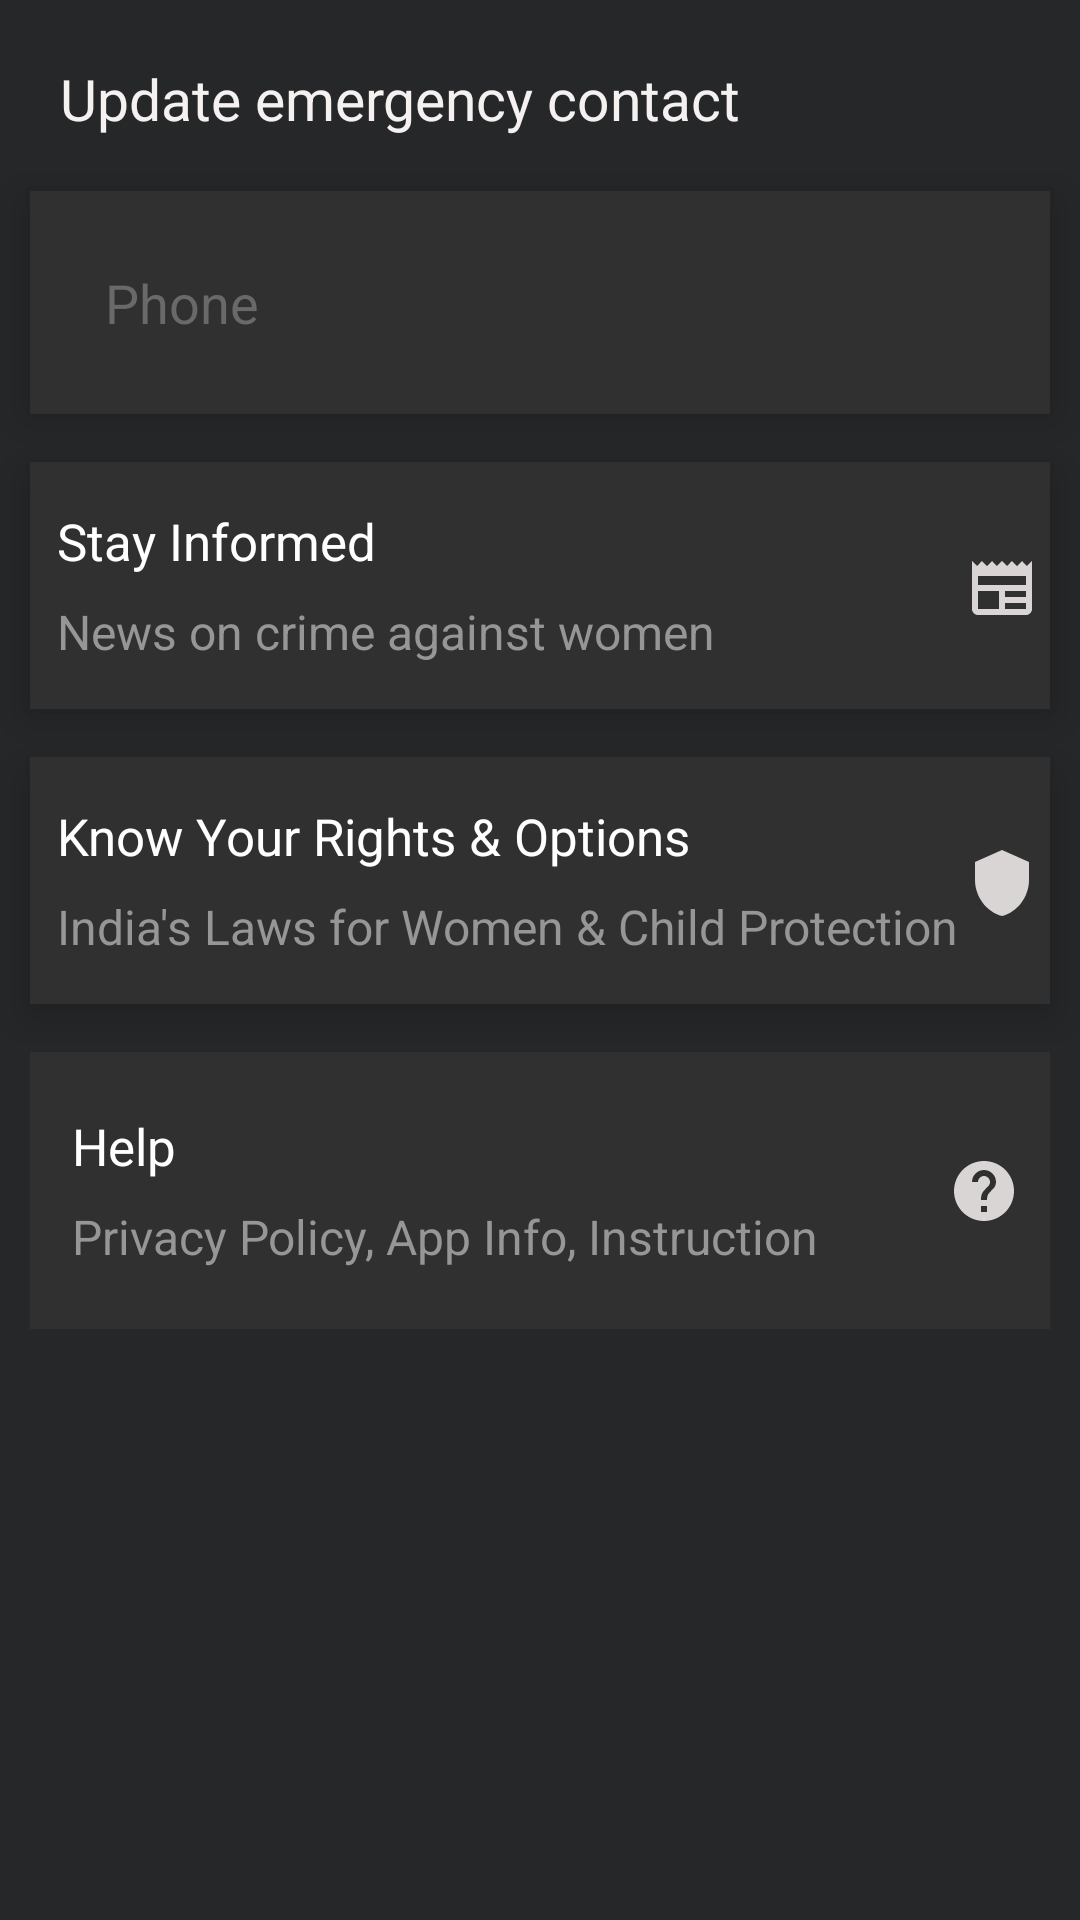

Screen size 1080*1920. Icon name, then its box in pixels as (x1, y1, x2, y2):
newspaper: (972, 561, 1032, 615)
shield: (975, 850, 1029, 916)
